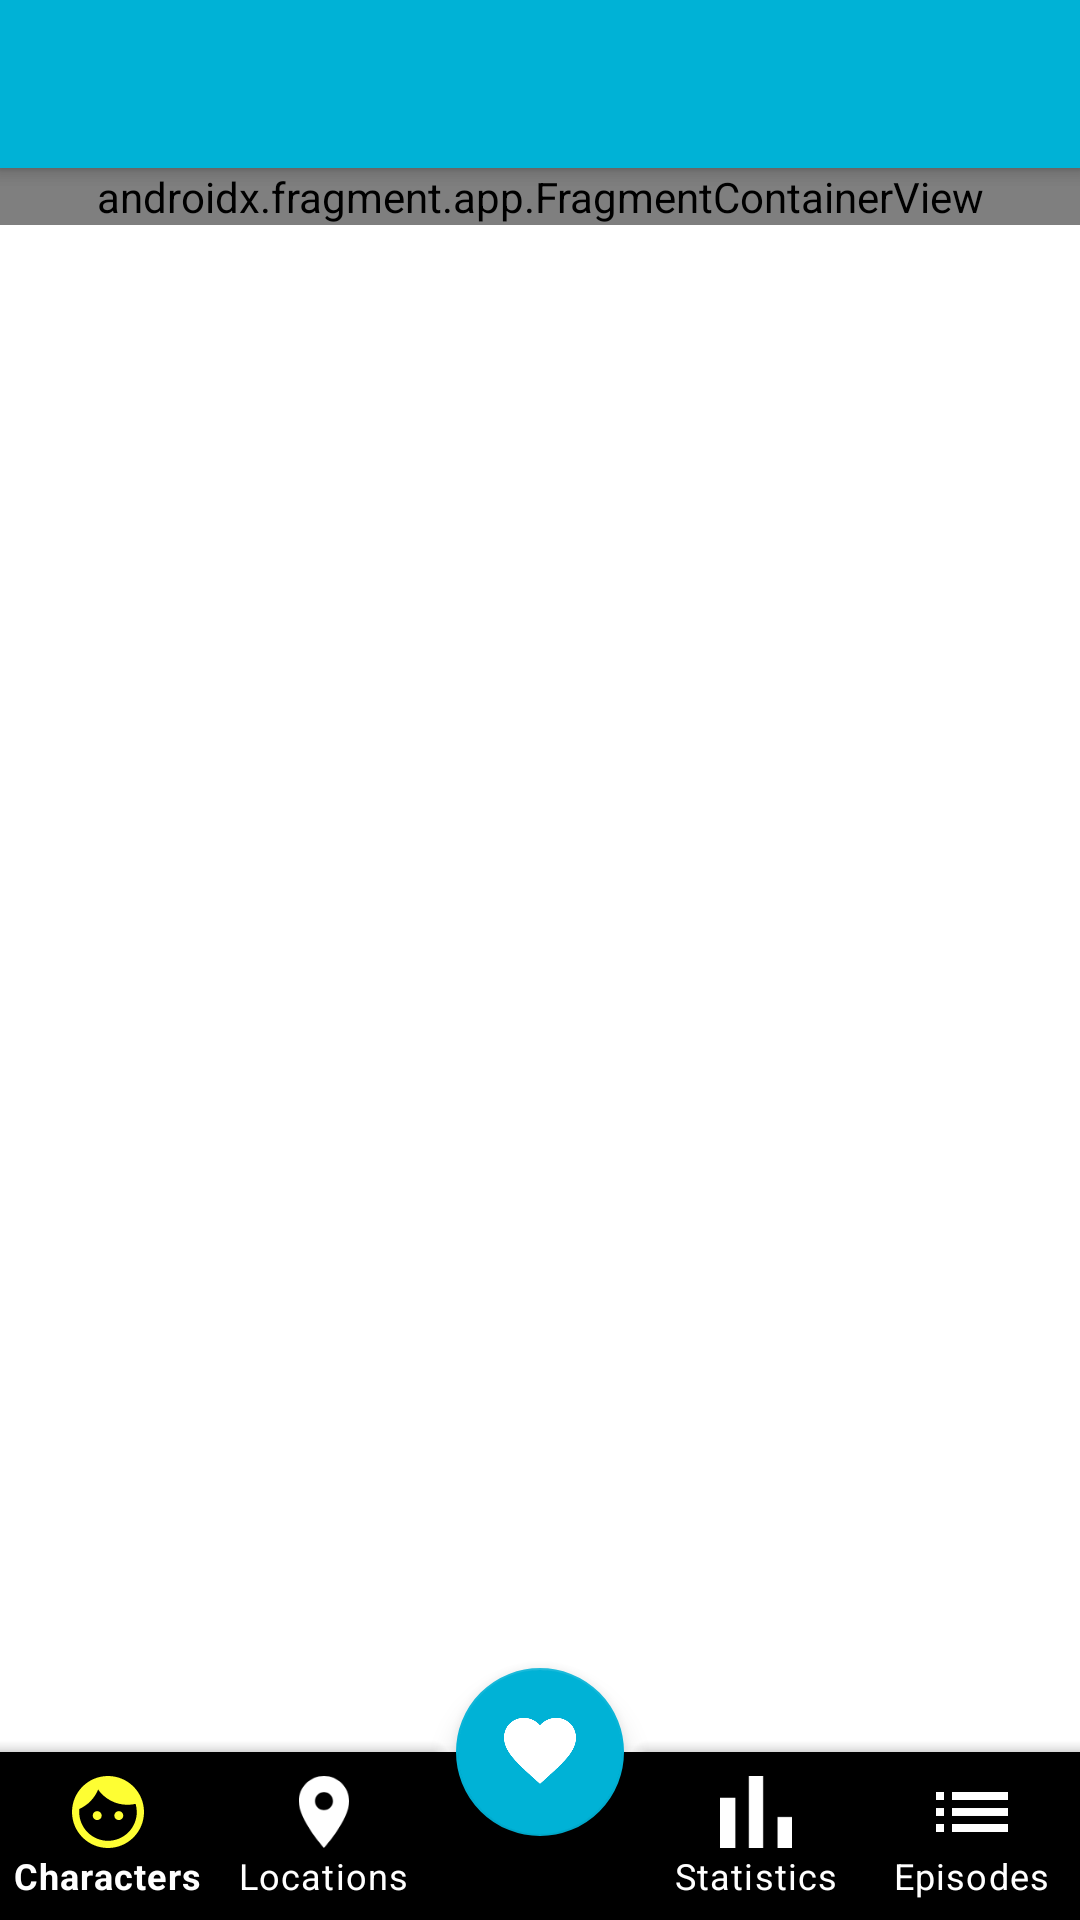

Icons on this 1080 × 1920 Android screen, each with the point to tap as point (x, y):
Favorites: point (540, 1752)
